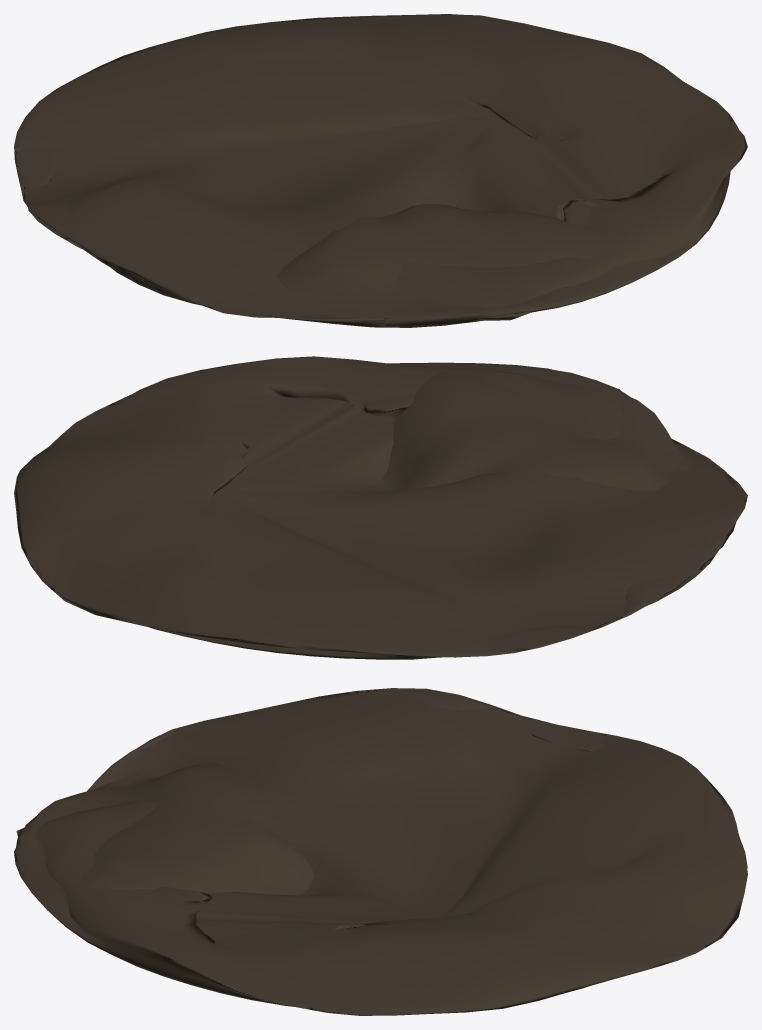
File: soyasauce1.fbx
The picture shows the model from 3 angles, top to bottom: view 1: azimuth 30°, elevation 25°; view 2: azimuth 150°, elevation 25°; view 3: azimuth 270°, elevation 25°; orthographic projection.
Visible parts, largest first — view 1: Sphere.016; view 2: Sphere.016; view 3: Sphere.016.
Boxes of the visible parts, bbox=[...] form: Sphere.016: bbox=[14, 14, 747, 327]; Sphere.016: bbox=[14, 356, 747, 659]; Sphere.016: bbox=[14, 688, 747, 1015].
Size of the model in its own units: 236 by 14.15 by 233.
